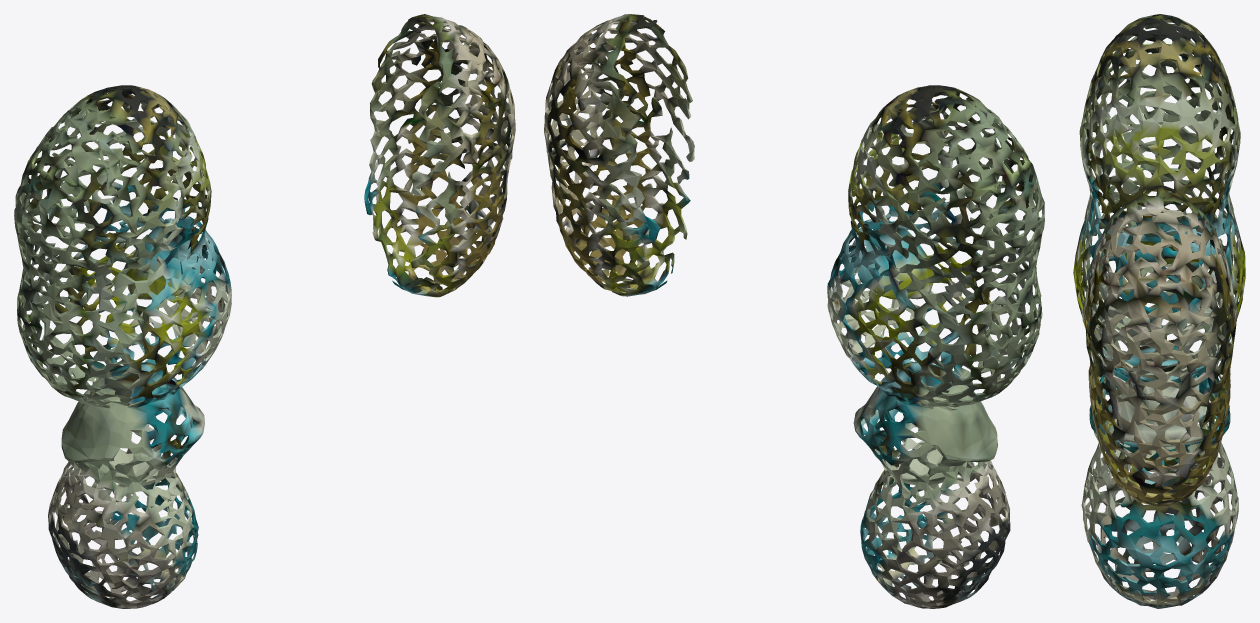
File: snowLeopard.glb
3 views of the same model, side by side, from view 1: azimuth 30°, elevation 25°; view 2: azimuth 150°, elevation 25°; view 3: azimuth 270°, elevation 25° (orthographic). The views are drawn at different scales.
Visible parts, largest first — view 1: world; view 2: world; view 3: world.
Boxes of the visible parts, x1=… form: world: x1=14, y1=14, x2=515, y2=608; world: x1=544, y1=14, x2=1044, y2=608; world: x1=1073, y1=14, x2=1245, y2=608.
Bounding box in the file's own units: 0.9809 × 1 × 0.2711.
